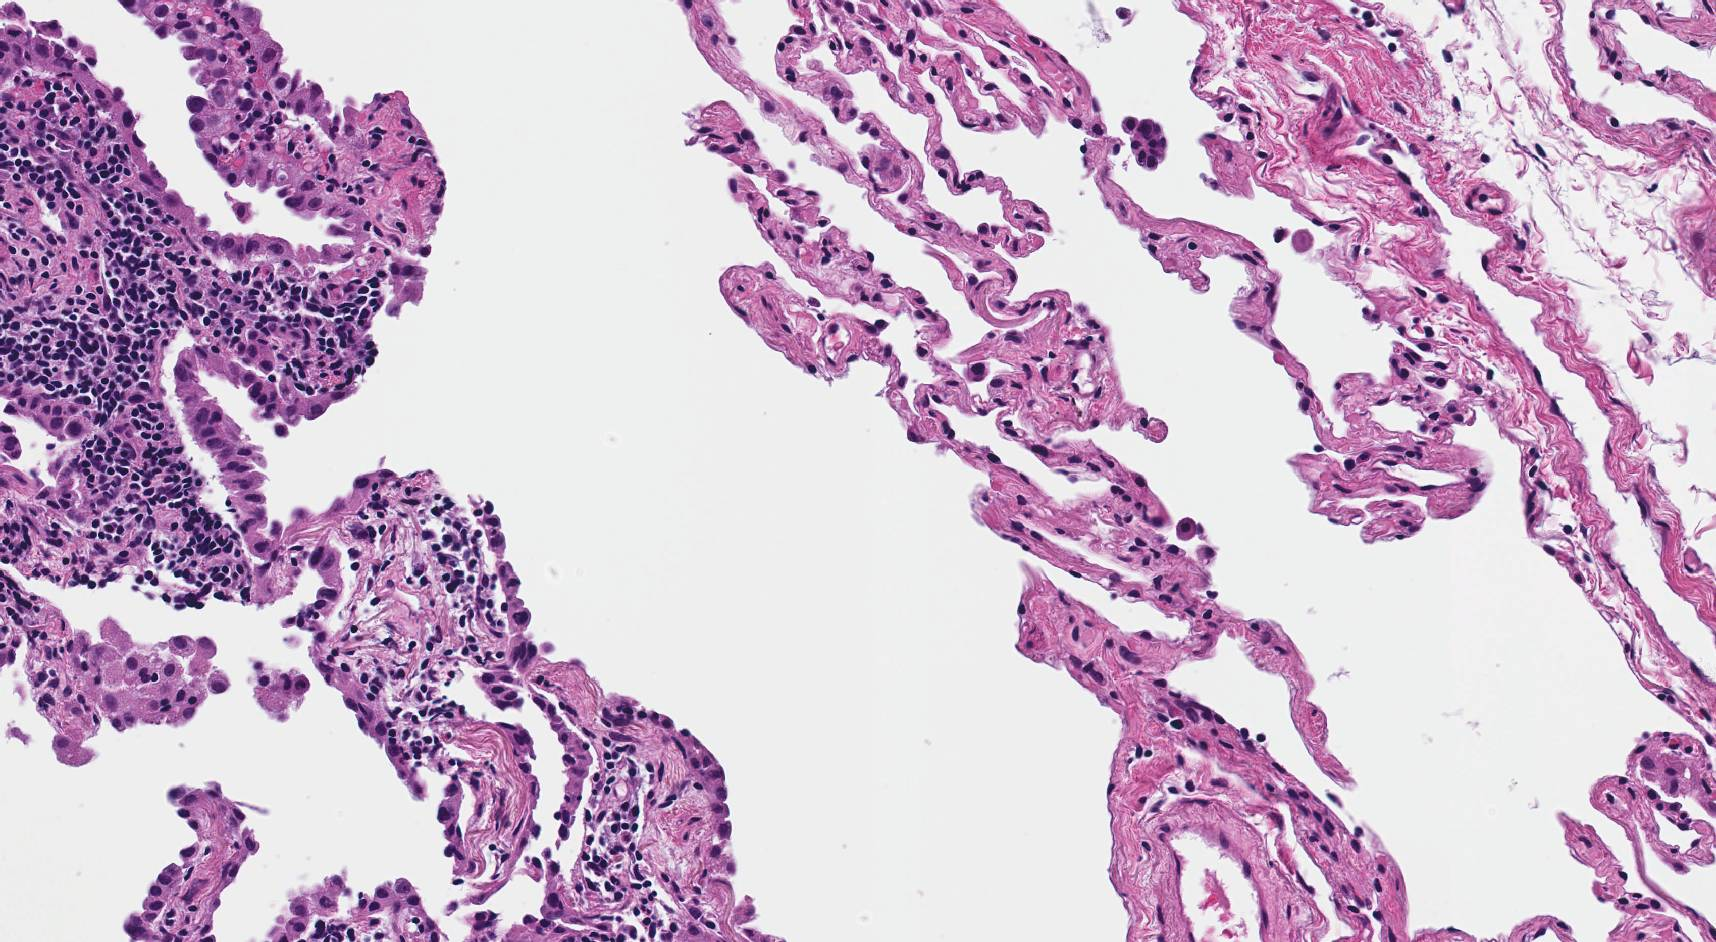stas: (1118, 115, 1169, 171)
